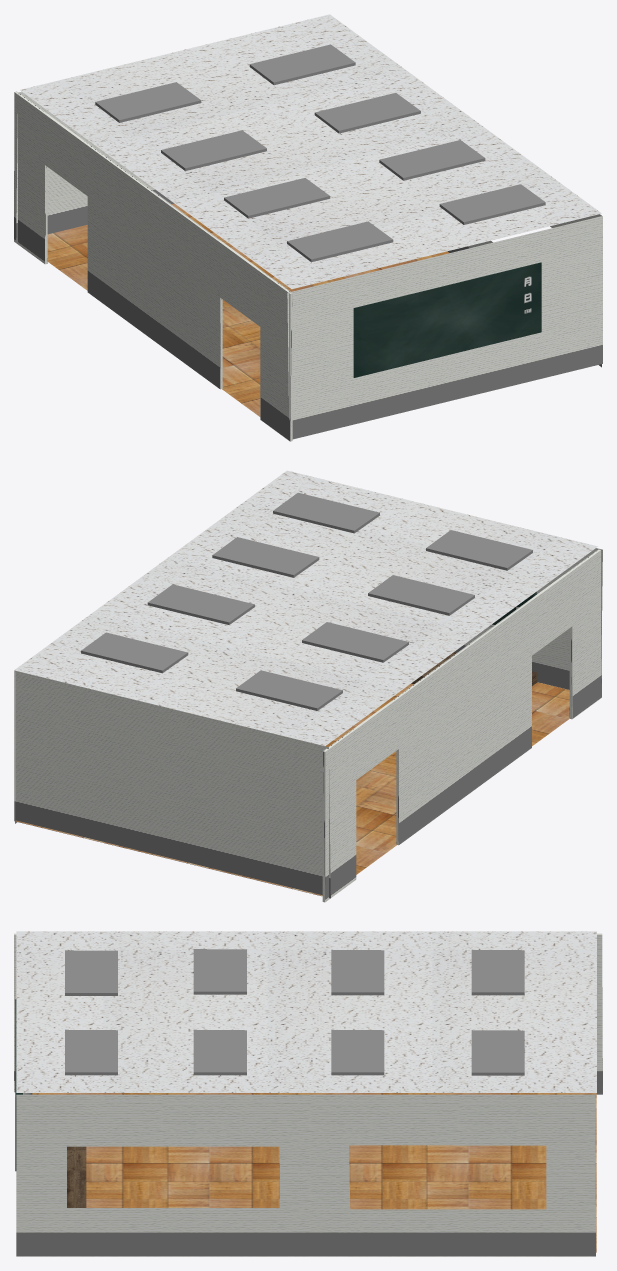
The model's file is ClassRoom1.FBX.
3 renders of one model, top to bottom at view 1: azimuth 30°, elevation 25°; view 2: azimuth 150°, elevation 25°; view 3: azimuth 270°, elevation 25°, orthographic. The views are drawn at different scales.
Visible parts, largest first — view 1: ceiling, DoorWall, frontWall, Blackboard, Floor, BackWall, Frame010, Frame001, Frame008, Frame, Frame009, Frame003 (+2 smaller); view 2: ceiling, BackWall, DoorWall, Floor, Frame, Frame008, Frame001, Frame003, Frame010, Frame002, Frame011, Frame009 (+1 smaller); view 3: ceiling, WindowWall, Floor, Frame003, Frame008, Frame002, Frame, Frame001, Frame010, Frame009, Frame011, DoorWall (+1 smaller).
Part boxes in pixels (box(x1,y1,x2,y2)): ceiling: box(20, 14, 601, 288); DoorWall: box(14, 91, 292, 441); frontWall: box(287, 216, 602, 439); Blackboard: box(353, 262, 541, 377); Floor: box(47, 203, 449, 416); BackWall: box(16, 91, 174, 243); Frame010: box(224, 178, 330, 218); Frame001: box(95, 82, 201, 122); Frame008: box(379, 140, 485, 180); Frame: box(249, 44, 355, 85); Frame009: box(439, 184, 545, 224); Frame003: box(314, 93, 420, 133); ceiling: box(14, 470, 597, 745); BackWall: box(14, 670, 330, 898); DoorWall: box(322, 548, 601, 902); Floor: box(15, 682, 569, 896); Frame: box(81, 632, 188, 673); Frame008: box(212, 537, 319, 577); Frame001: box(236, 670, 342, 710); Frame003: box(147, 584, 254, 624); Frame010: box(368, 575, 474, 615); Frame002: box(302, 622, 408, 662); Frame011: box(426, 530, 532, 570); Frame009: box(273, 492, 379, 533); ceiling: box(16, 931, 596, 1092); WindowWall: box(16, 1094, 595, 1256); Floor: box(23, 1093, 596, 1252); Frame003: box(331, 1029, 384, 1075); Frame008: box(193, 1029, 246, 1075); Frame002: box(331, 949, 384, 995); Frame: box(471, 1030, 524, 1075); Frame001: box(471, 949, 524, 995); Frame010: box(193, 949, 246, 994); Frame009: box(65, 1029, 117, 1075); Frame011: box(65, 950, 117, 995); DoorWall: box(14, 933, 602, 1094).
Bounding box in the file's own units: 841 × 399 × 1275.
Materials: 11 (8 with a texture image).
